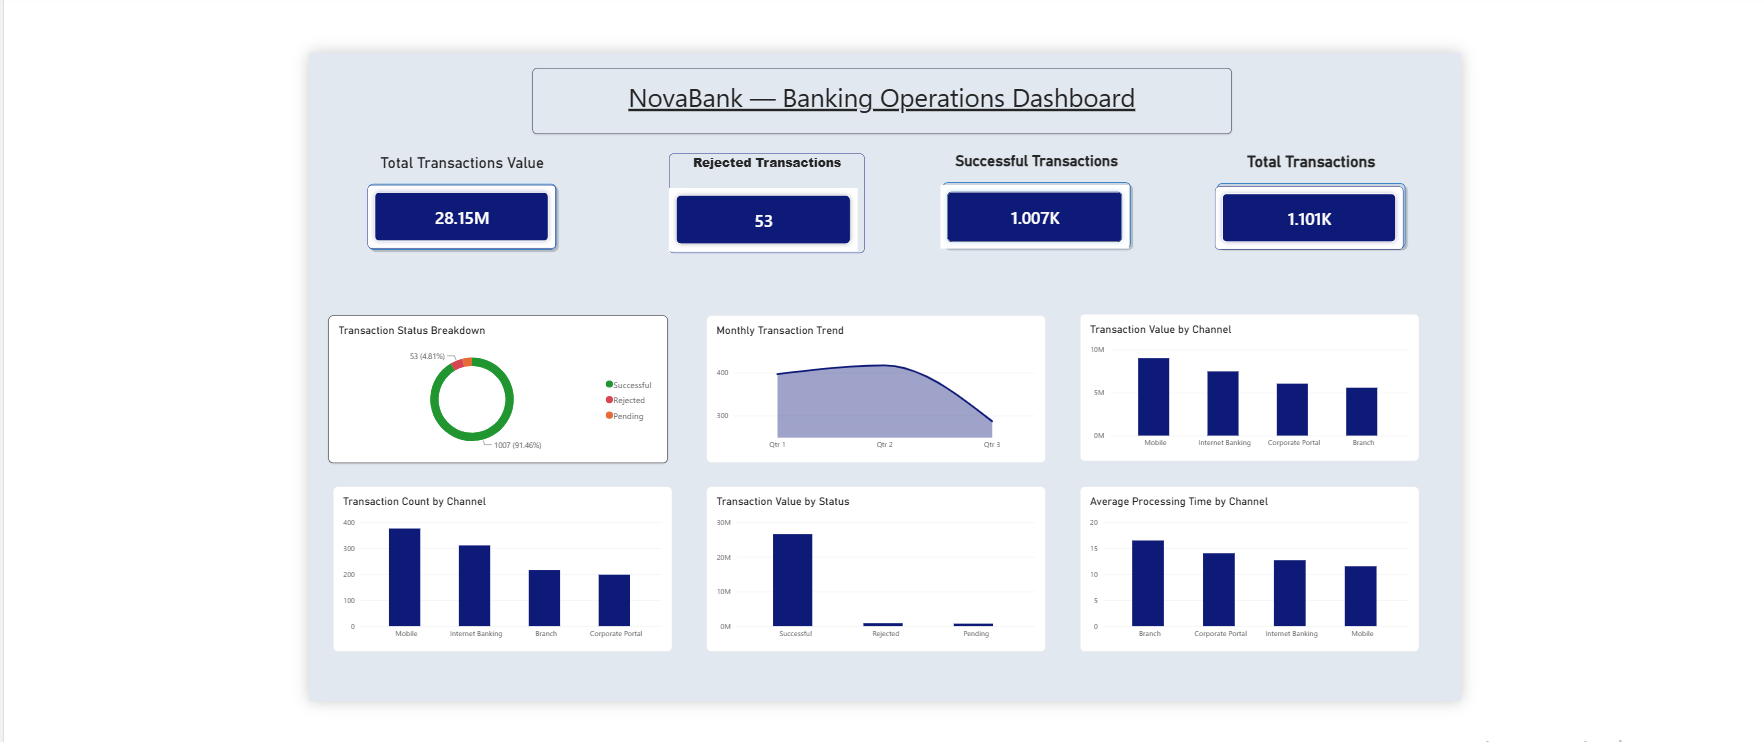

What the dashboard file says about the page in this screenshot:
{"tool":"powerbi","page":{"name":"Overview Dashboard","canvas":[1920,1080],"ordinal":0},"visuals":[{"type":"shape","title":"Total Transactions","box":[1505.3,164.1,325.7,166.1],"z":0,"group":"g1"},{"type":"shape","title":"Total Transactions Value","box":[91.4,166.8,325.7,166.1],"z":1000,"group":"g1"},{"type":"shape","title":"Successful Transactions","box":[1048.7,164.1,325.7,166.1],"z":2000,"group":"g1"},{"type":"cardVisual","title":"Total Transactions","fields":{"Data":["CountNonNull(BankingTransactions.Transaction_ID)"]},"box":[1509.6,221.2,314.1,105],"z":3000,"group":"g1"},{"type":"shape","title":"Rejected Transactions","box":[599.2,166.2,325.7,166.1],"z":4000,"group":"g1"},{"type":"cardVisual","title":"Total Transactions Value","fields":{"Data":["Sum(BankingTransactions.Amount_INR)"]},"box":[96.9,218.8,314.1,106],"z":5000,"group":"g1"},{"type":"cardVisual","title":"Rejected Transactions","fields":{"Data":["CountNonNull(BankingTransactions.Transaction_ID)"]},"box":[597.9,224.1,314.1,105],"z":6000,"group":"g1"},{"type":"donutChart","title":"Transaction Status Breakdown","fields":{"Category":["BankingTransactions.Status"],"Y":["CountNonNull(BankingTransactions.Transaction_ID)"]},"box":[33.4,437.5,565.1,246.1],"z":7000},{"type":"clusteredColumnChart","title":"Transaction Value by Channel","fields":{"Category":["BankingTransactions.Channel"],"Y":["Sum(BankingTransactions.Amount_INR)"]},"box":[1285,435,565,245],"z":8000},{"type":"lineChart","title":"Monthly Transaction Trend","fields":{"Category":["BankingTransactions.Transaction_Date.Variation.Date Hierarchy.Year","BankingTransactions.Transaction_Date.Variation.Date Hierarchy.Quarter","BankingTransactions.Transaction_Date.Variation.Date Hierarchy.Month","BankingTransactions.Transaction_Date.Variation.Date Hierarchy.Day"],"Y":["CountNonNull(BankingTransactions.Transaction_ID)"]},"box":[661.5,437.1,565,245],"z":9000},{"type":"clusteredColumnChart","title":"Transaction Value by Status","fields":{"Category":["BankingTransactions.Status"],"Y":["Sum(BankingTransactions.Amount_INR)"]},"box":[661.5,723,565,275],"z":10000},{"type":"clusteredColumnChart","title":"Average Processing Time by Channel","fields":{"Category":["BankingTransactions.Channel"],"Y":["Avg(BankingTransactions.Processing_Time_Min)"]},"box":[1285,722.5,565,275],"z":11000},{"type":"textbox","box":[372.5,25,1165,110],"z":12000},{"type":"cardVisual","fields":{"Data":["CountNonNull(BankingTransactions.Transaction_ID)"]},"box":[1051.5,217.9,314.1,106],"z":13000,"group":"g1"},{"type":"clusteredColumnChart","title":"Transaction Count by Channel","fields":{"Category":["BankingTransactions.Channel"],"Y":["CountNonNull(BankingTransactions.Transaction_ID)"]},"box":[40,722.5,565,275],"z":14000},{"type":"group","id":"g1","title":"Group 1","box":[91.4,164.1,1739.6,168.8],"z":14001}]}

Visuals, with their boxes on the page's 1920x1080 design canvas (x1, y1, x2, y2). These are canvas units, not pixel positions in the 1764x742 screenshot, which may show the page scaled, cropped or inside an application window:
"Total Transactions" shape: {"x1": 1505, "y1": 164, "x2": 1831, "y2": 330}
"Total Transactions Value" shape: {"x1": 91, "y1": 167, "x2": 417, "y2": 333}
"Successful Transactions" shape: {"x1": 1049, "y1": 164, "x2": 1374, "y2": 330}
"Total Transactions" cardVisual: {"x1": 1510, "y1": 221, "x2": 1824, "y2": 326}
"Rejected Transactions" shape: {"x1": 599, "y1": 166, "x2": 925, "y2": 332}
"Total Transactions Value" cardVisual: {"x1": 97, "y1": 219, "x2": 411, "y2": 325}
"Rejected Transactions" cardVisual: {"x1": 598, "y1": 224, "x2": 912, "y2": 329}
"Transaction Status Breakdown" donutChart: {"x1": 33, "y1": 438, "x2": 598, "y2": 684}
"Transaction Value by Channel" clusteredColumnChart: {"x1": 1285, "y1": 435, "x2": 1850, "y2": 680}
"Monthly Transaction Trend" lineChart: {"x1": 662, "y1": 437, "x2": 1226, "y2": 682}
"Transaction Value by Status" clusteredColumnChart: {"x1": 662, "y1": 723, "x2": 1226, "y2": 998}
"Average Processing Time by Channel" clusteredColumnChart: {"x1": 1285, "y1": 722, "x2": 1850, "y2": 998}
textbox: {"x1": 372, "y1": 25, "x2": 1538, "y2": 135}
cardVisual - CountNonNull(BankingTransactions.Transaction_ID): {"x1": 1052, "y1": 218, "x2": 1366, "y2": 324}
"Transaction Count by Channel" clusteredColumnChart: {"x1": 40, "y1": 722, "x2": 605, "y2": 998}
"Group 1" group: {"x1": 91, "y1": 164, "x2": 1831, "y2": 333}
